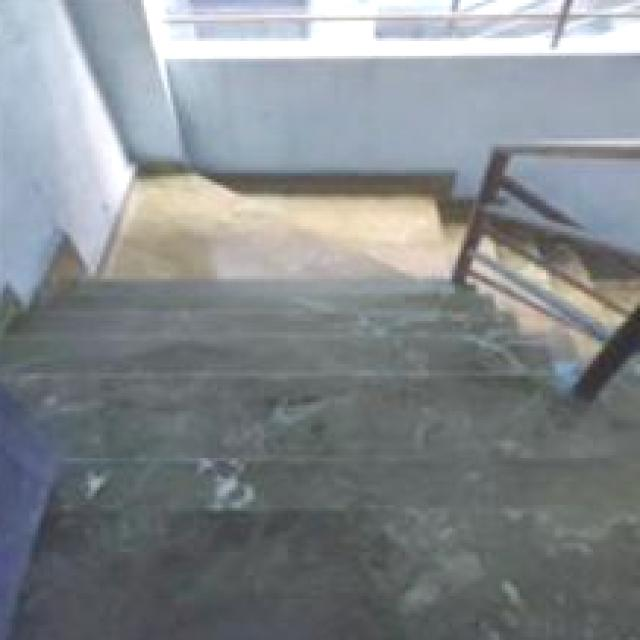downstair: (57, 318, 512, 588)
